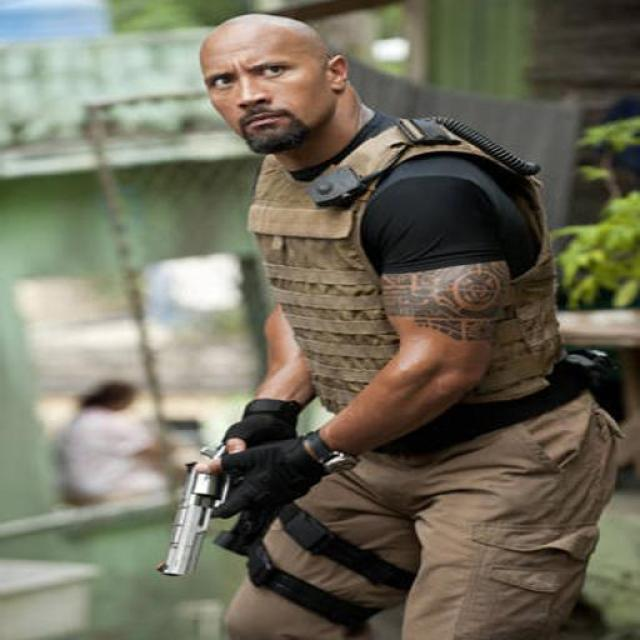pistol: (144, 446, 336, 582)
